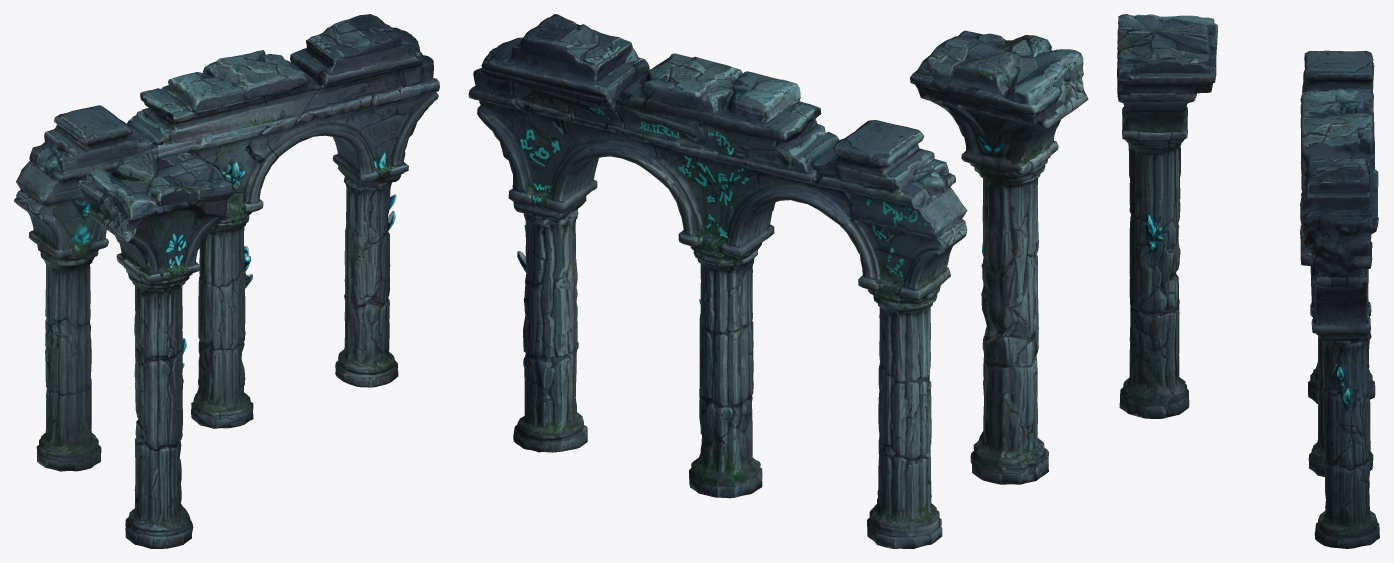
Rendered from Pillar6.fbx.
3 views of the same model, side by side, from view 1: azimuth 30°, elevation 25°; view 2: azimuth 150°, elevation 25°; view 3: azimuth 270°, elevation 25° (orthographic). The views are drawn at different scales.
Visible parts, largest first — view 1: texture_mapping; view 2: texture_mapping; view 3: texture_mapping.
Boxes of the visible parts, bbox=[...] form: texture_mapping: bbox=[14, 14, 439, 548]; texture_mapping: bbox=[468, 14, 1088, 548]; texture_mapping: bbox=[1117, 14, 1379, 548].
Bounding box in the file's own units: 1 × 0.5339 × 0.8606.
1 material, 1 textured.
